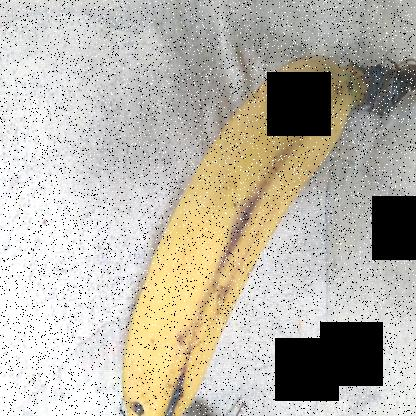ripe: (114, 44, 355, 415)
